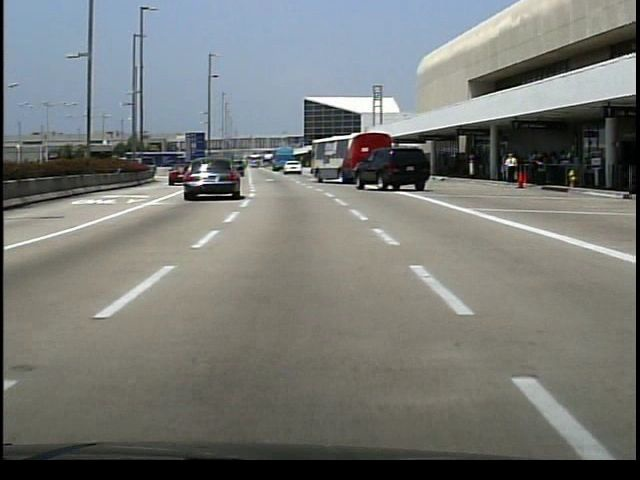person: (502, 152, 517, 187)
